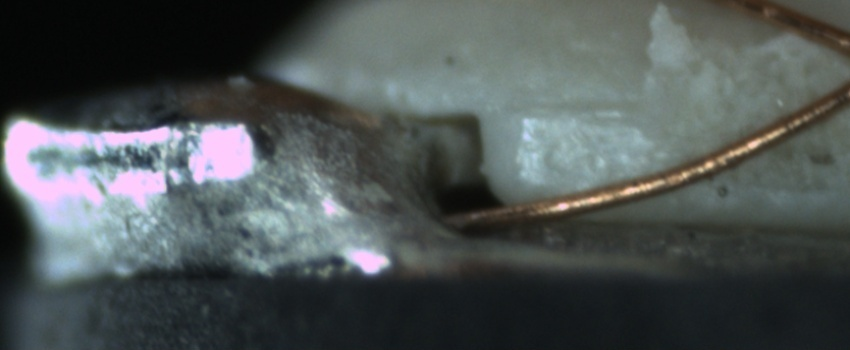DL: (508, 71, 645, 141)
